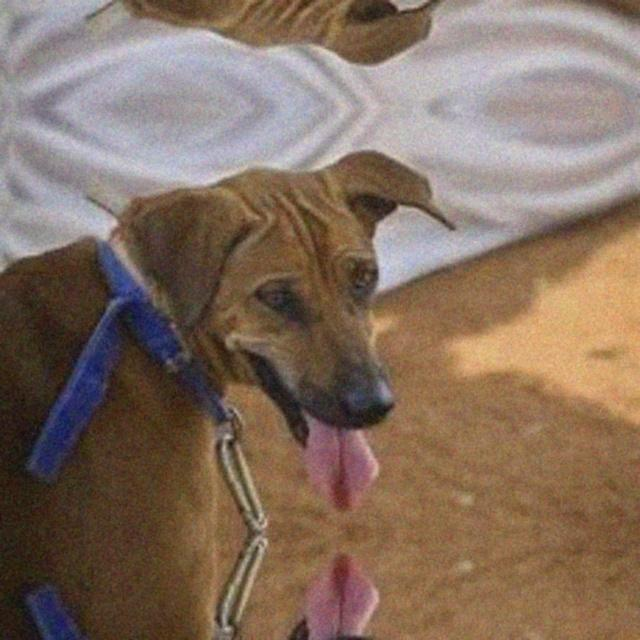dog: (92, 152, 500, 518), (92, 548, 500, 640), (92, 0, 500, 62)
